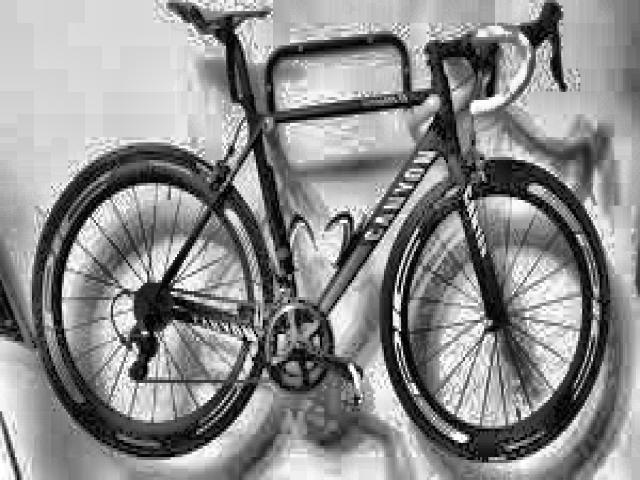cassette: (134, 280, 173, 331)
cranks_set: (260, 297, 358, 397)
pedal: (347, 356, 366, 406)
rear_derailleur: (124, 320, 160, 386)
saddle: (167, 1, 272, 36)
sti_shifter: (538, 2, 570, 96)
wheel: (31, 139, 276, 463), (378, 155, 614, 467)
